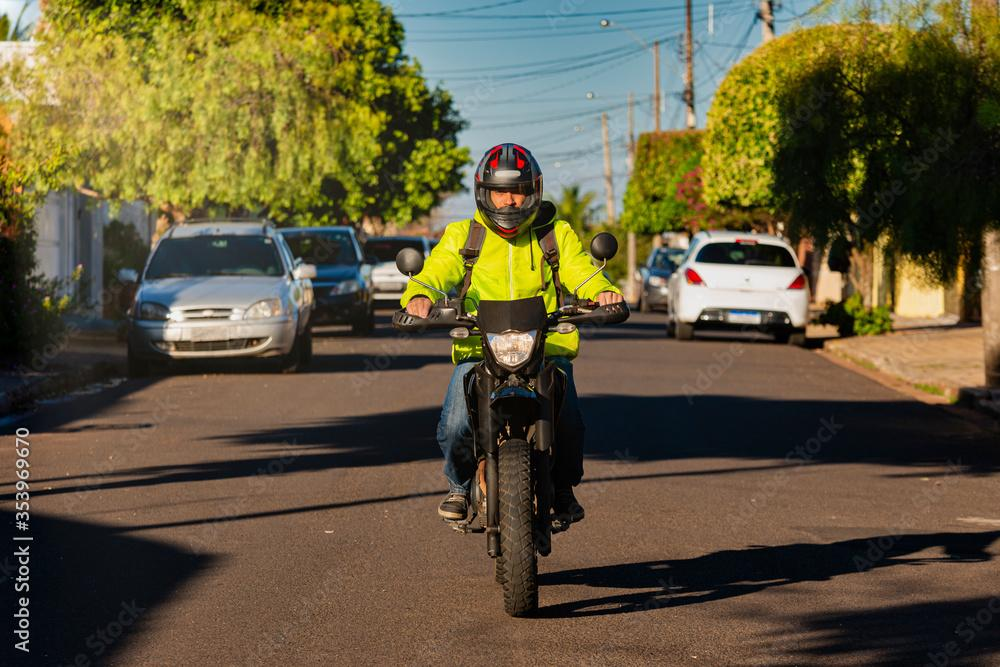helmet: (473, 142, 544, 240)
